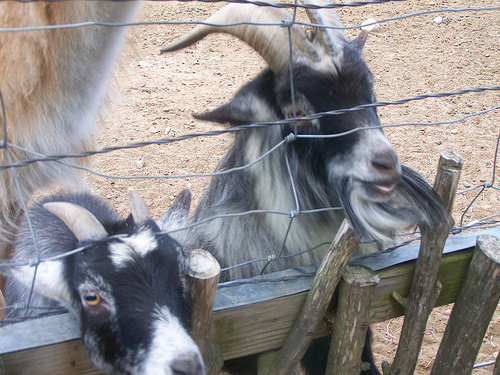goat: (160, 1, 453, 375), (5, 183, 207, 375)
